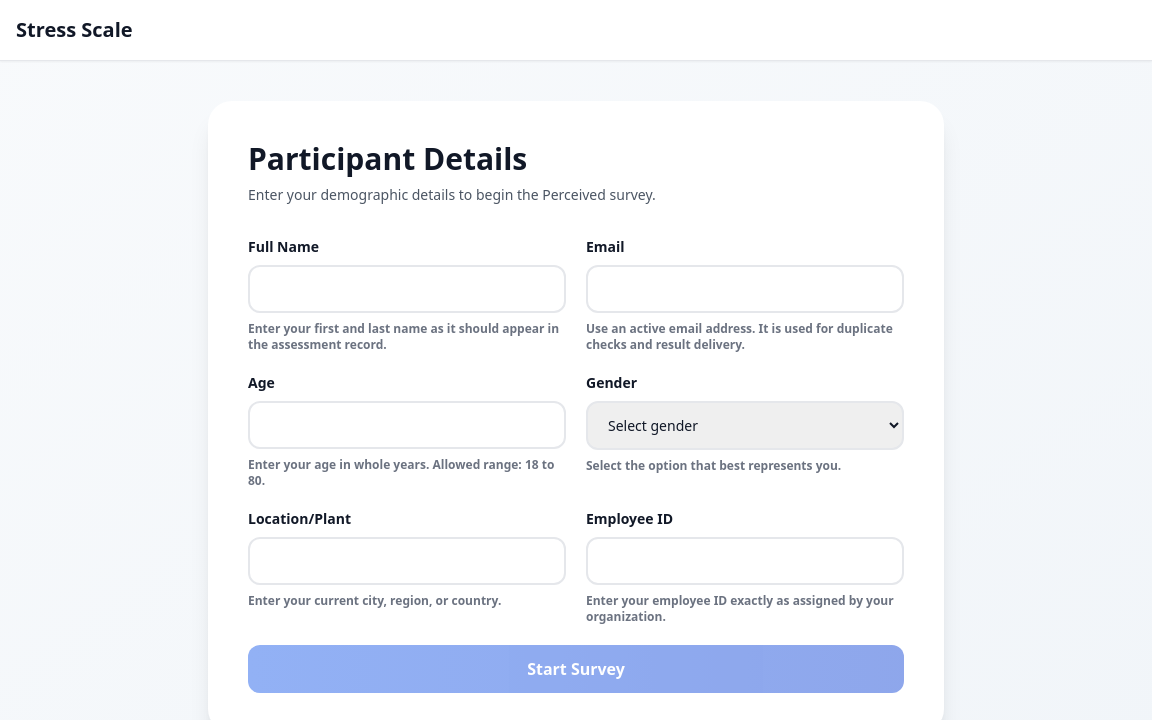
AssessmentPage › enables the start button only when the form is valid
Expected: the button "Start Survey" is disabled, [248, 645, 904, 693]
Type "Test User" into the field labelled "Full Name" at [407, 289], box [248, 265, 566, 313]
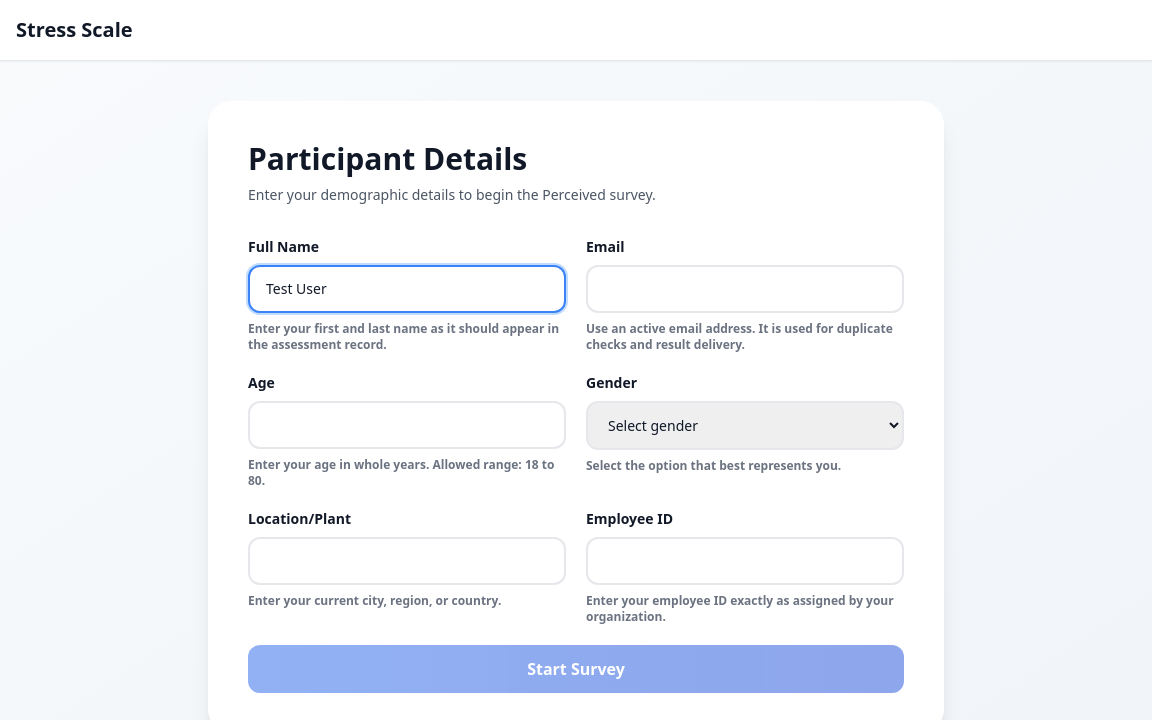
Type "test@example.com" into the field labelled "Email" at [745, 289], box [586, 265, 904, 313]
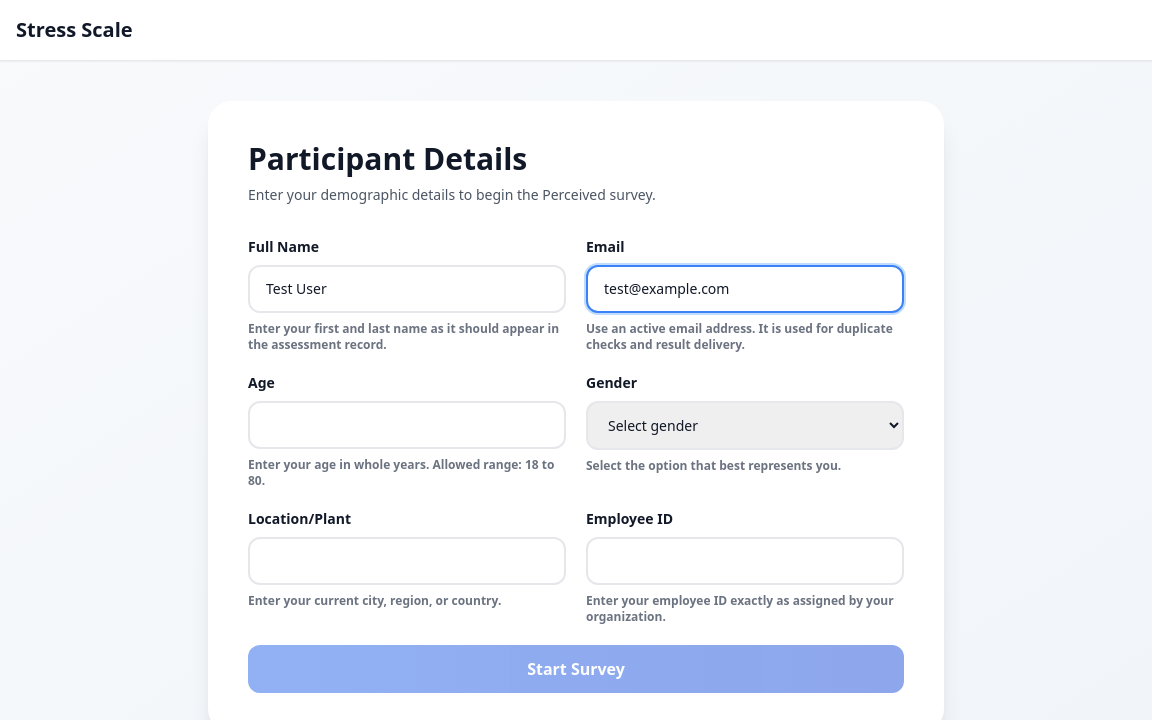
Type "29" into the number field labelled "Age Enter your age in whole years. Allowed range: 18 to 80." at [407, 425], box [248, 401, 566, 449]
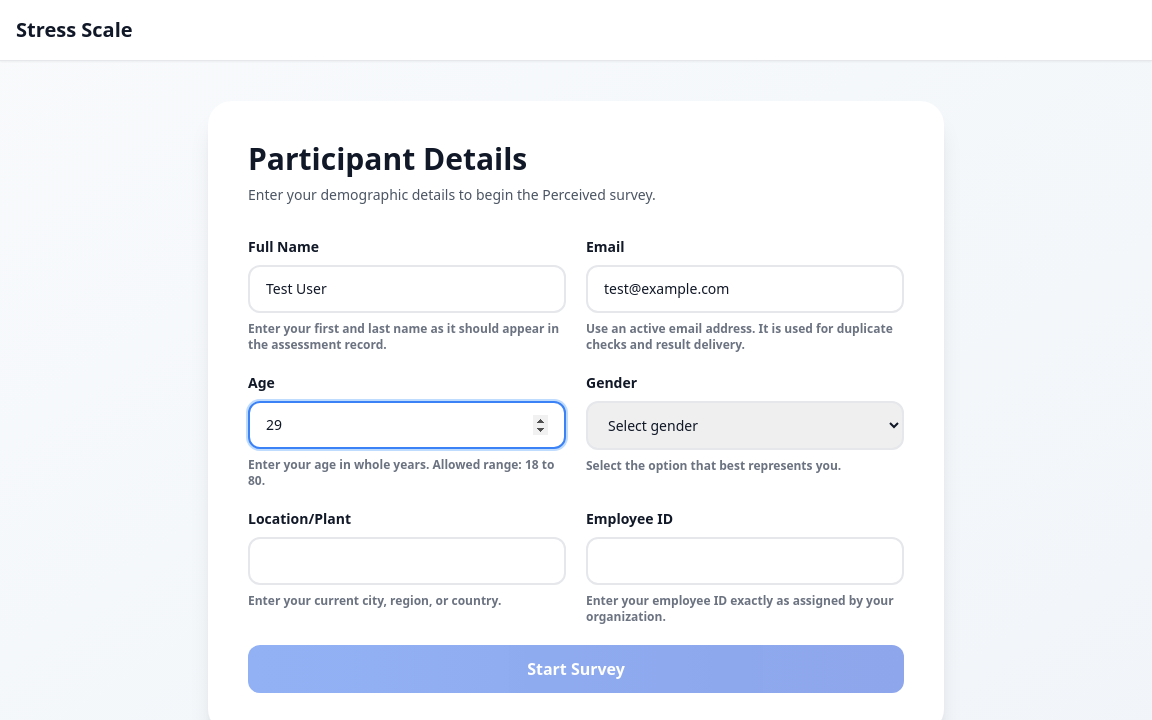
Select "Female" in the dropdown labelled "Gender Select the option that best represents you." at [745, 426], box [586, 401, 904, 450]
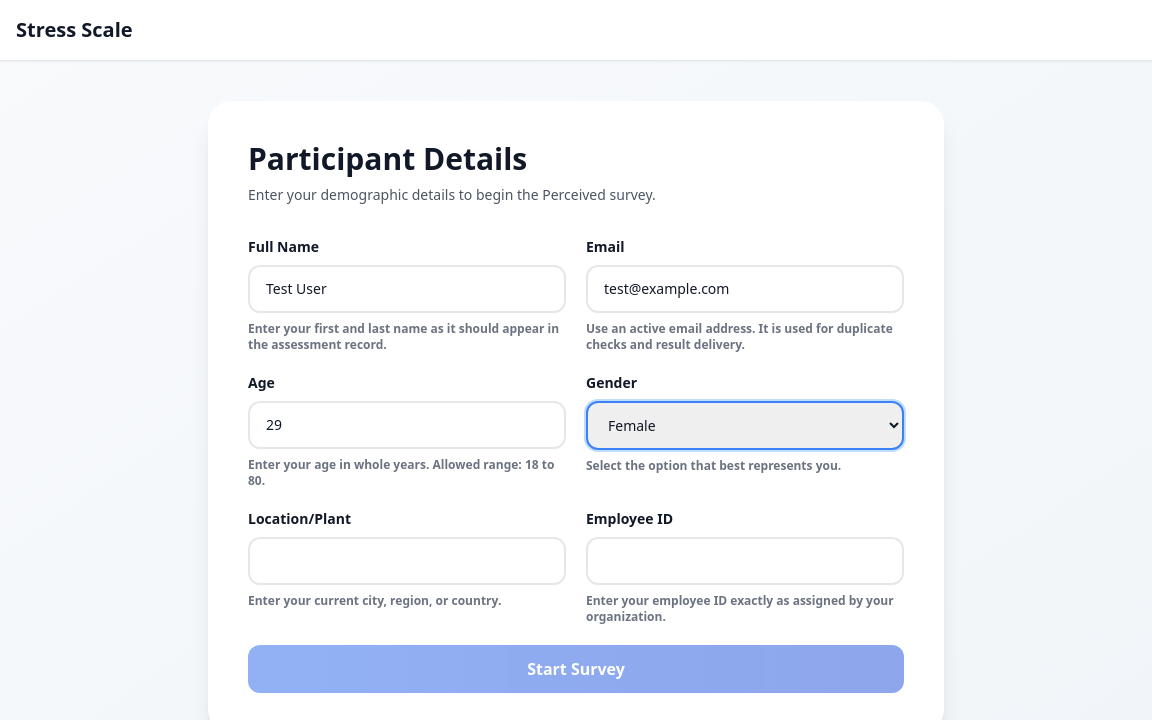
Type "Mumbai" into the field labelled "Location/Plant Enter your current city, region, or country." at [407, 561], box [248, 537, 566, 585]
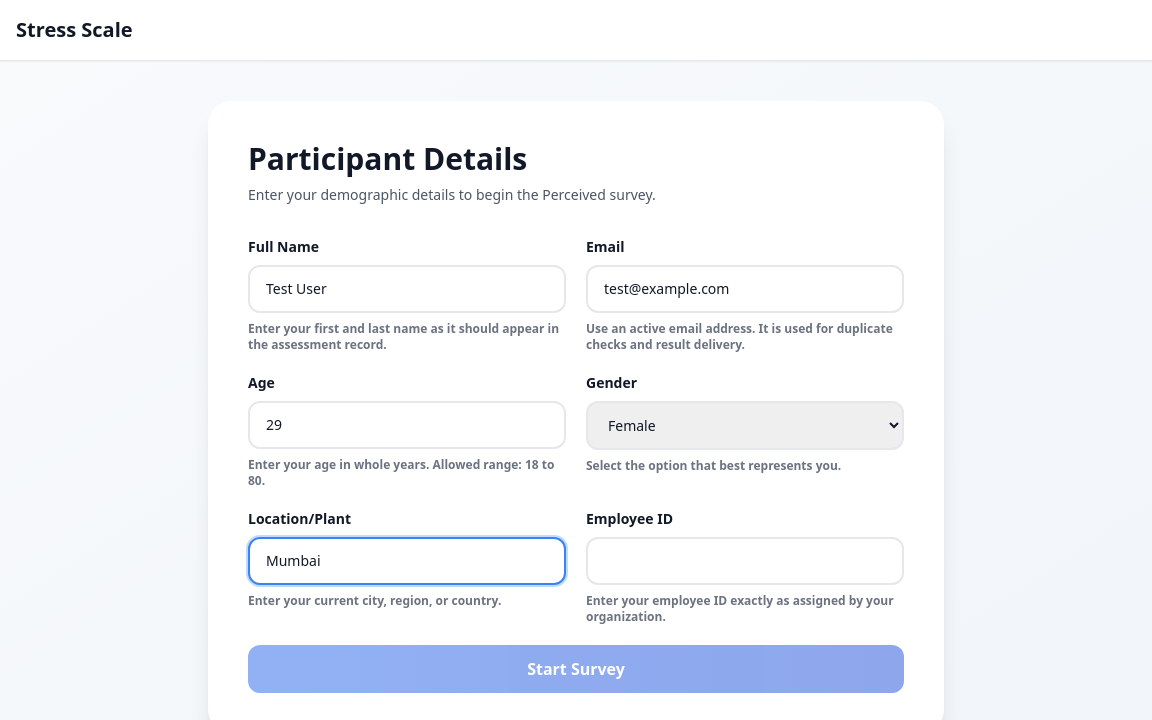
Type "EMP-123" into the field labelled "Employee ID" at [745, 561], box [586, 537, 904, 585]
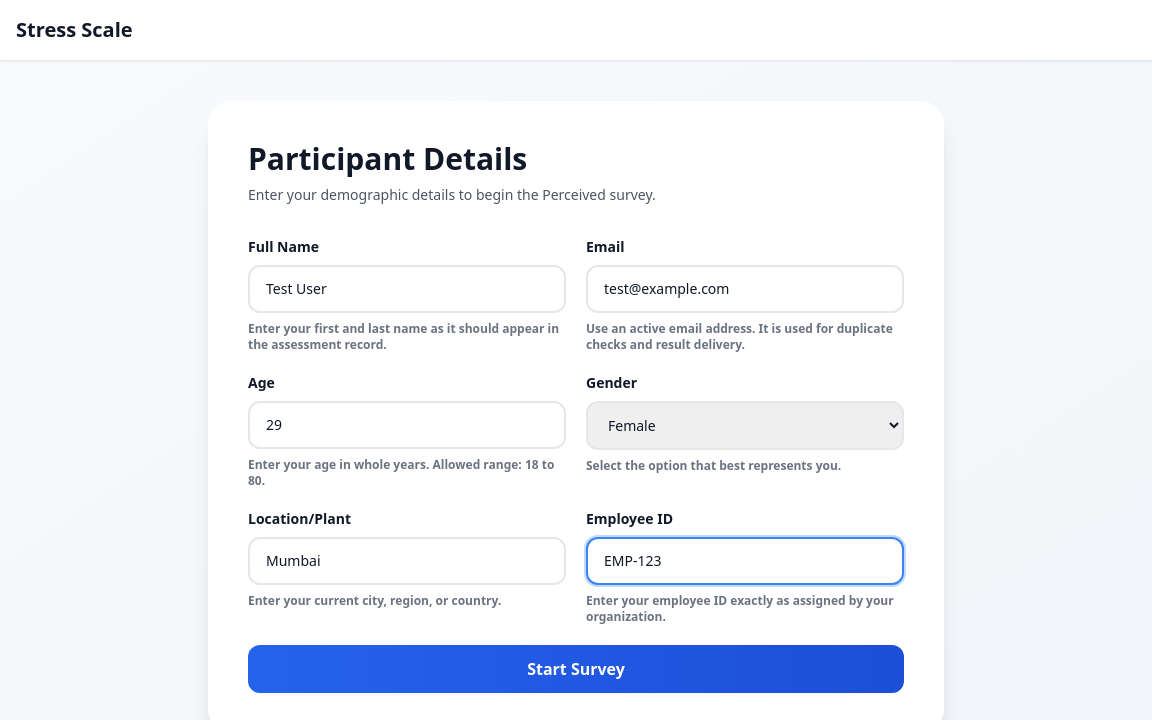
Expected: the button "Start Survey" is enabled, [248, 645, 904, 693]
